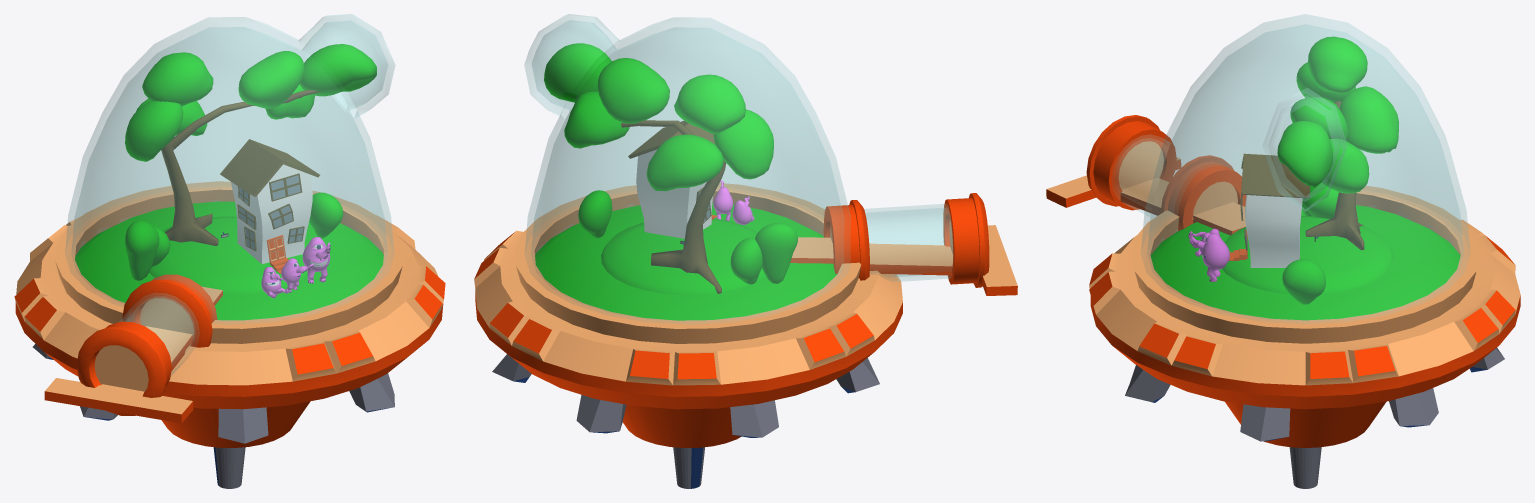
The model's file is home.fbx.
The picture shows the model from 3 angles, left to right: view 1: azimuth 30°, elevation 25°; view 2: azimuth 150°, elevation 25°; view 3: azimuth 270°, elevation 25°; orthographic projection.
Parts seen in each view (by area): view 1: outer_dome, ground_orbit, inner_dome, house, Outer_airLock, Inner_airLock, outer_step, goodSphere01 (×3), outer_tube, goodSphere09, tree, goodSphere04 (+8 smaller); view 2: outer_dome, ground_orbit, inner_dome, outer_tube, outer_step, house, goodSphere04, Outer_airLock, goodSphere03, goodSphere01, tree, goodSphere02 (+8 smaller); view 3: outer_dome, ground_orbit, inner_dome, house, Outer_airLock, Inner_airLock, goodSphere01 (×2), goodSphere03, goodSphere09, outer_tube, outer_step, goodSphere05 (+6 smaller).
Part boxes in pixels (x1,y1,x2,y2): outer_dome: [65, 14, 395, 323]; ground_orbit: [14, 181, 445, 488]; inner_dome: [72, 20, 387, 253]; house: [220, 139, 319, 263]; Outer_airLock: [76, 321, 171, 415]; Inner_airLock: [122, 274, 217, 347]; outer_step: [44, 326, 193, 423]; goodSphere01 (×3): [142, 52, 330, 298]; outer_tube: [119, 293, 199, 375]; goodSphere09: [299, 44, 376, 96]; tree: [161, 101, 254, 245]; goodSphere04: [238, 51, 304, 108]; outer_dome: [524, 14, 850, 324]; ground_orbit: [474, 183, 902, 488]; inner_dome: [531, 20, 844, 254]; outer_tube: [864, 204, 953, 281]; outer_step: [869, 225, 1017, 295]; house: [628, 121, 714, 238]; goodSphere04: [597, 58, 669, 123]; Outer_airLock: [943, 193, 989, 287]; goodSphere03: [646, 134, 723, 191]; goodSphere01: [674, 74, 745, 134]; tree: [621, 120, 725, 293]; goodSphere02: [713, 109, 773, 179]; outer_dome: [1141, 14, 1469, 323]; ground_orbit: [1089, 185, 1520, 488]; inner_dome: [1147, 24, 1463, 255]; house: [1241, 153, 1310, 267]; Outer_airLock: [1086, 115, 1176, 210]; Inner_airLock: [1160, 155, 1246, 230]; goodSphere01 (×2): [1188, 36, 1367, 281]; goodSphere03: [1339, 86, 1398, 153]; goodSphere09: [1277, 121, 1333, 187]; outer_tube: [1112, 135, 1169, 216]; outer_step: [1046, 157, 1193, 221]; goodSphere05: [1321, 138, 1369, 193].
Size of the model in its own units: 203 by 202 by 187.
